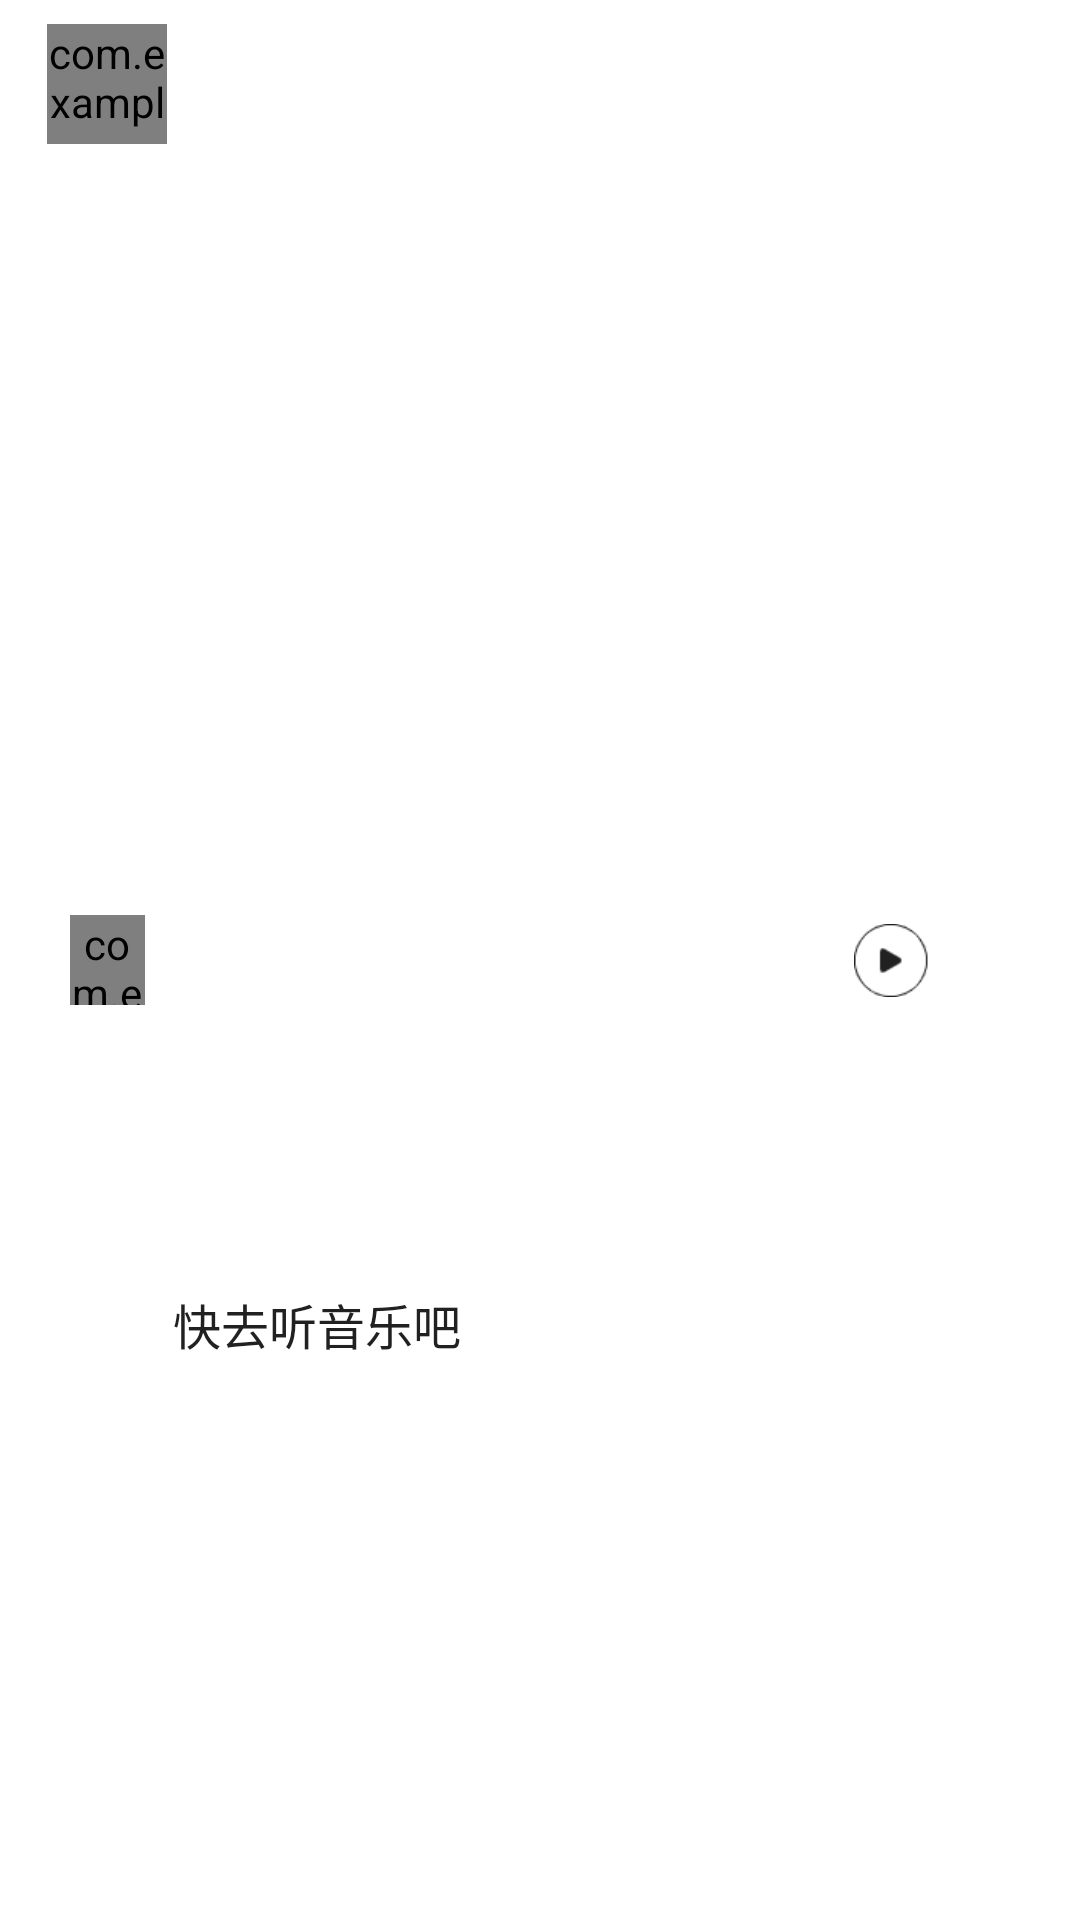

Named icons in this screenshot (1080 x 1920) and their centers, [x,y]:
play: [891,960]
